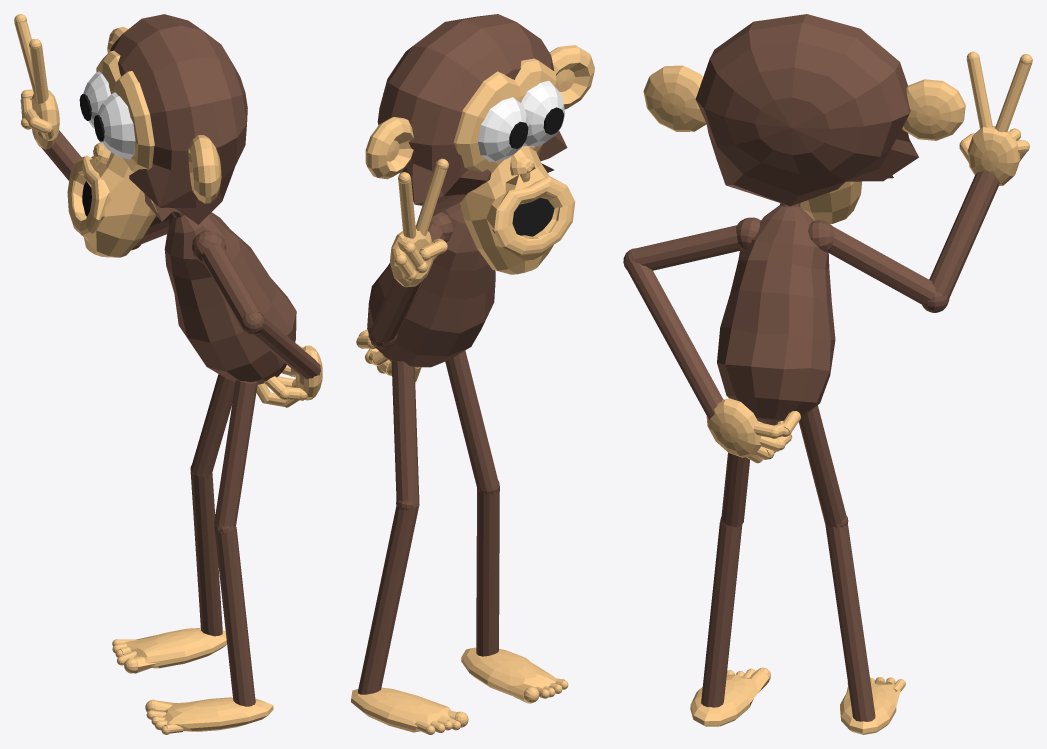
File: Main Monkey - VR.glb
3 views of the same model, side by side, from view 1: azimuth 30°, elevation 25°; view 2: azimuth 150°, elevation 25°; view 3: azimuth 270°, elevation 25° (orthographic). The views are drawn at different scales.
Visible parts, largest first — view 1: group856830309, group664445943, group588949580, group32993151, group1050046302, group972216410, group1463176327, group933442429, group201371982, group1060727675, group1373646457, group972464850 (+10 smaller); view 2: group856830309, group664445943, group588949580, group1050046302, group933442429, group32993151, group1060727675, group1373646457, group972216410, group201371982, group1463176327, group498550028 (+10 smaller); view 3: group856830309, group664445943, group1050046302, group32993151, group1089728930, group813666662, group1635528719, group498550028, group179032729, group1373646457, group972464850, group1058426205 (+7 smaller).
Part boxes in pixels (x1,y1,x2,y2): group856830309: [110, 14, 247, 224]; group664445943: [164, 212, 296, 384]; group588949580: [76, 152, 157, 257]; group32993151: [214, 527, 255, 706]; group1050046302: [190, 470, 222, 636]; group972216410: [214, 380, 257, 527]; group1463176327: [163, 697, 273, 731]; group933442429: [96, 50, 154, 172]; group201371982: [125, 628, 226, 668]; group1060727675: [67, 155, 111, 236]; group1373646457: [190, 374, 235, 477]; group972464850: [201, 245, 263, 327]; group856830309: [377, 14, 567, 216]; group664445943: [367, 202, 495, 367]; group588949580: [460, 146, 553, 274]; group1050046302: [358, 504, 419, 694]; group933442429: [453, 58, 558, 173]; group32993151: [476, 486, 499, 656]; group1060727675: [494, 176, 575, 255]; group1373646457: [391, 360, 419, 507]; group972216410: [445, 350, 498, 490]; group201371982: [351, 687, 450, 732]; group1463176327: [461, 647, 556, 695]; group498550028: [365, 117, 413, 179]; group856830309: [695, 14, 918, 206]; group664445943: [717, 205, 835, 425]; group1050046302: [825, 523, 875, 721]; group32993151: [701, 521, 741, 707]; group1089728930: [624, 261, 723, 419]; group813666662: [929, 171, 998, 303]; group1635528719: [643, 65, 706, 131]; group498550028: [902, 79, 965, 140]; group179032729: [829, 226, 935, 305]; group1373646457: [799, 405, 846, 527]; group972464850: [633, 225, 740, 270]; group1058426205: [706, 398, 760, 457].
Size of the model in its own units: 0.7767 by 2.33 by 1.25.
